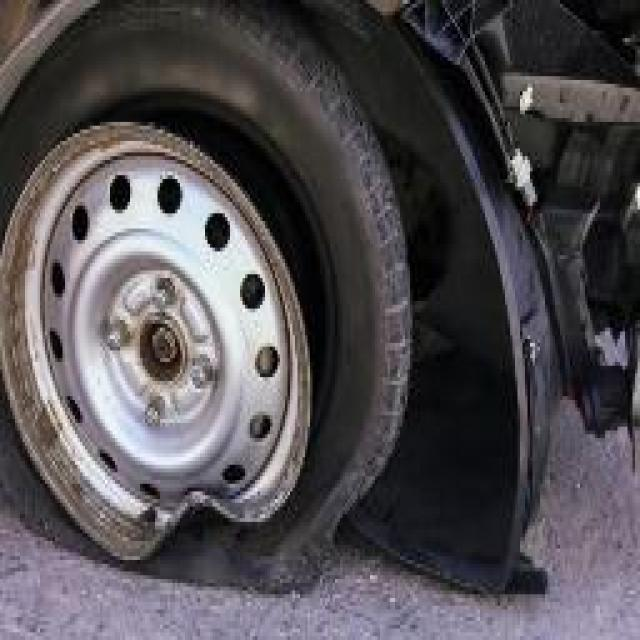Bumper: (475, 11, 640, 575)
